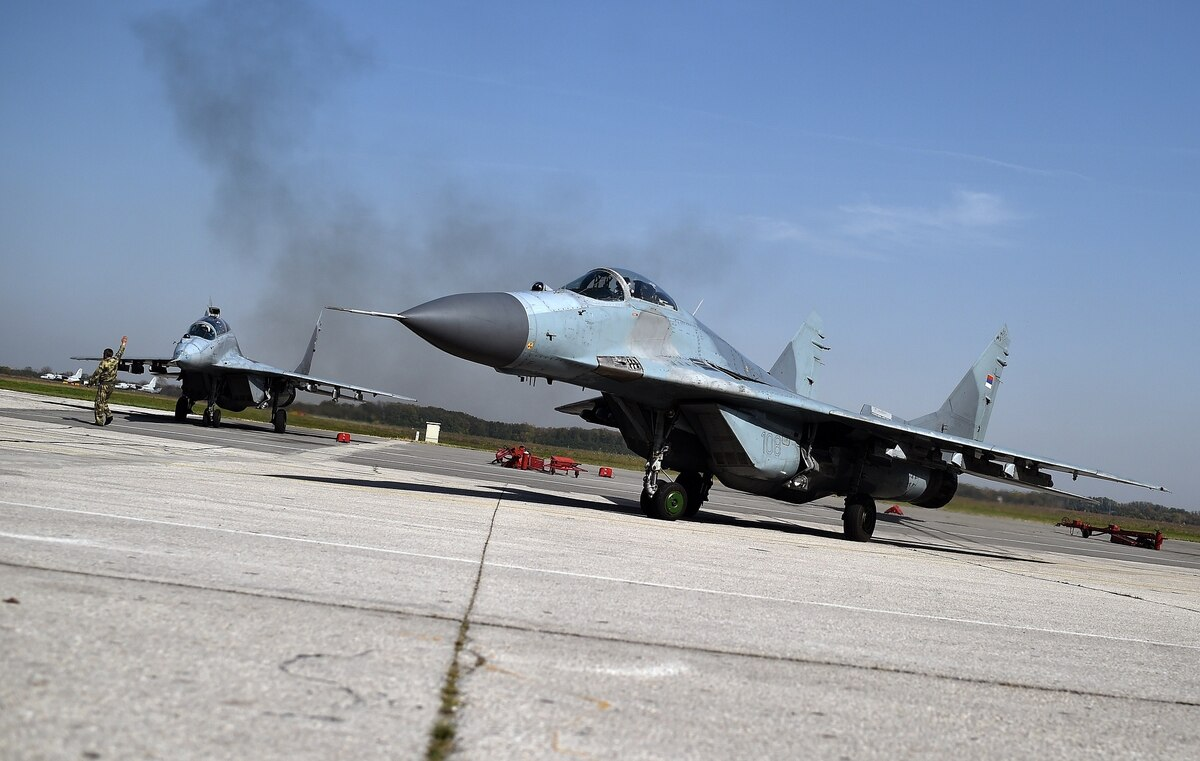Mig-29: (381, 154, 1125, 554), (121, 244, 358, 453)
